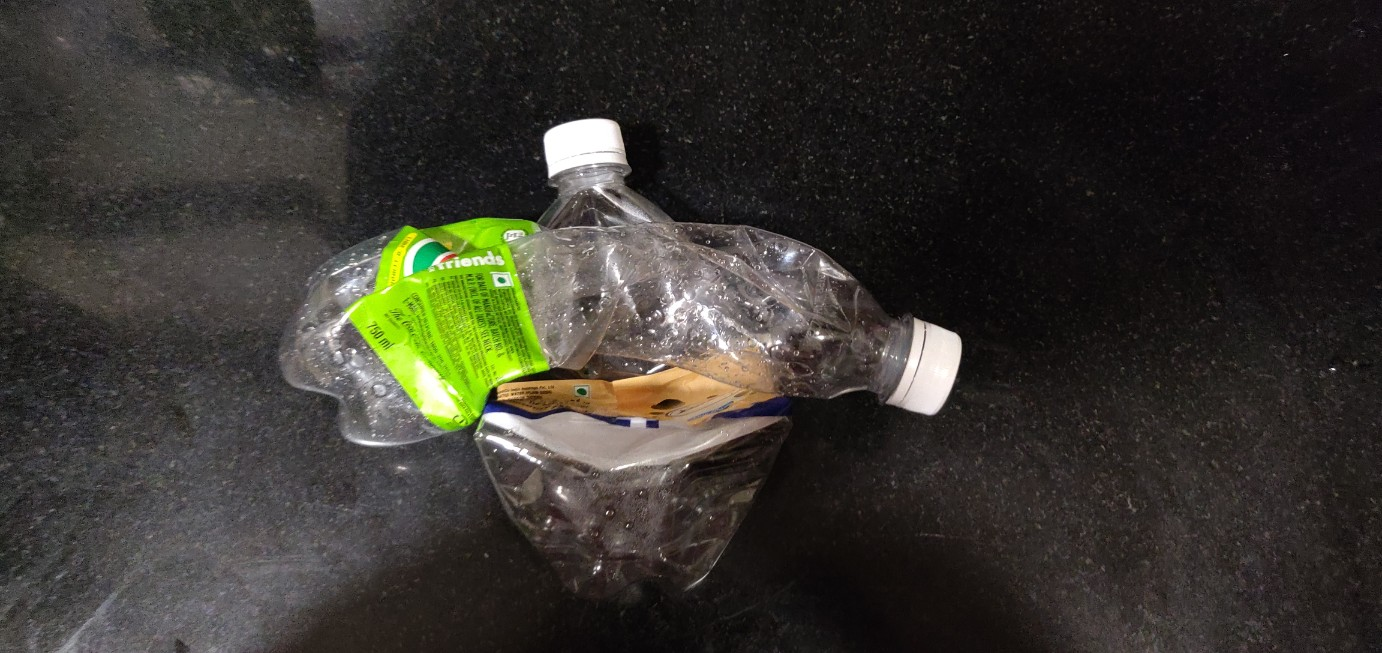Electronics: (252, 192, 1009, 477), (456, 88, 824, 620)
